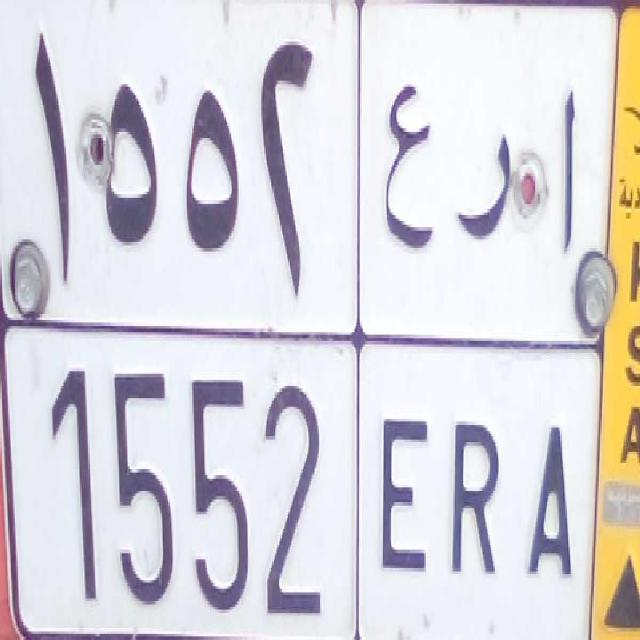license_plate: (6, 301, 596, 640)
